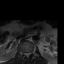CCS_normal: (26, 50, 28, 59)
LFS_stenosis: (30, 49, 32, 55)
LLS_normal: (28, 50, 30, 57)
RFS_normal: (22, 50, 24, 57)
RLS_normal: (24, 50, 26, 57)
